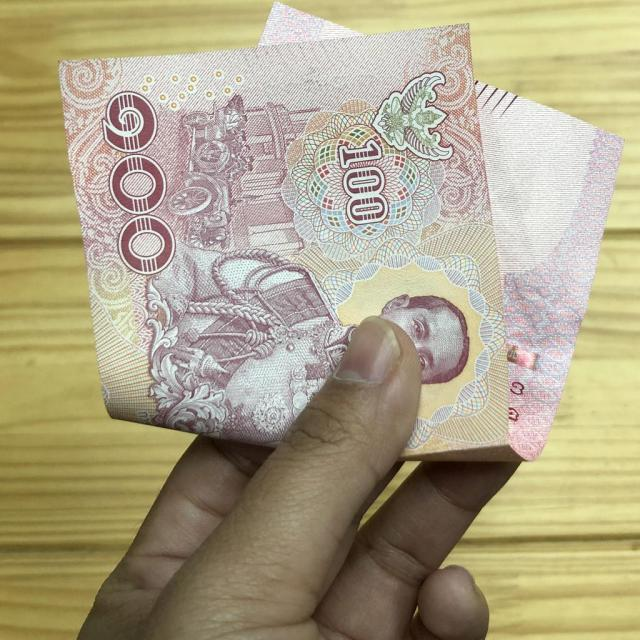THAI100: (59, 2, 623, 463)
